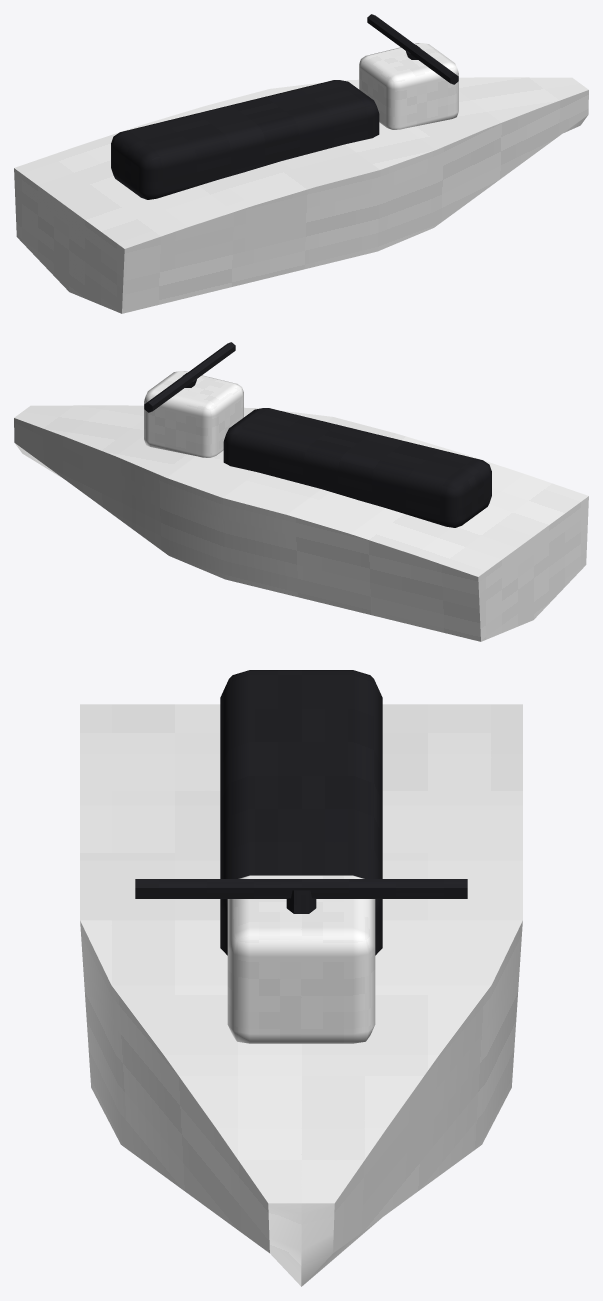
File: p_ai_jetski.glb
The picture shows the model from 3 angles, top to bottom: view 1: azimuth 30°, elevation 25°; view 2: azimuth 150°, elevation 25°; view 3: azimuth 270°, elevation 25°; orthographic projection. The views are drawn at different scales.
Visible parts, largest first — view 1: p_ai_jetski_lod0; view 2: p_ai_jetski_lod0; view 3: p_ai_jetski_lod0.
Boxes of the visible parts, x1=… form: p_ai_jetski_lod0: x1=14, y1=14, x2=588, y2=313; p_ai_jetski_lod0: x1=14, y1=342, x2=588, y2=641; p_ai_jetski_lod0: x1=80, y1=670, x2=522, y2=1286.
Size of what is drawn, in the model's own units: 3.2 by 0.98 by 1.2.
2 materials, 2 textured.
